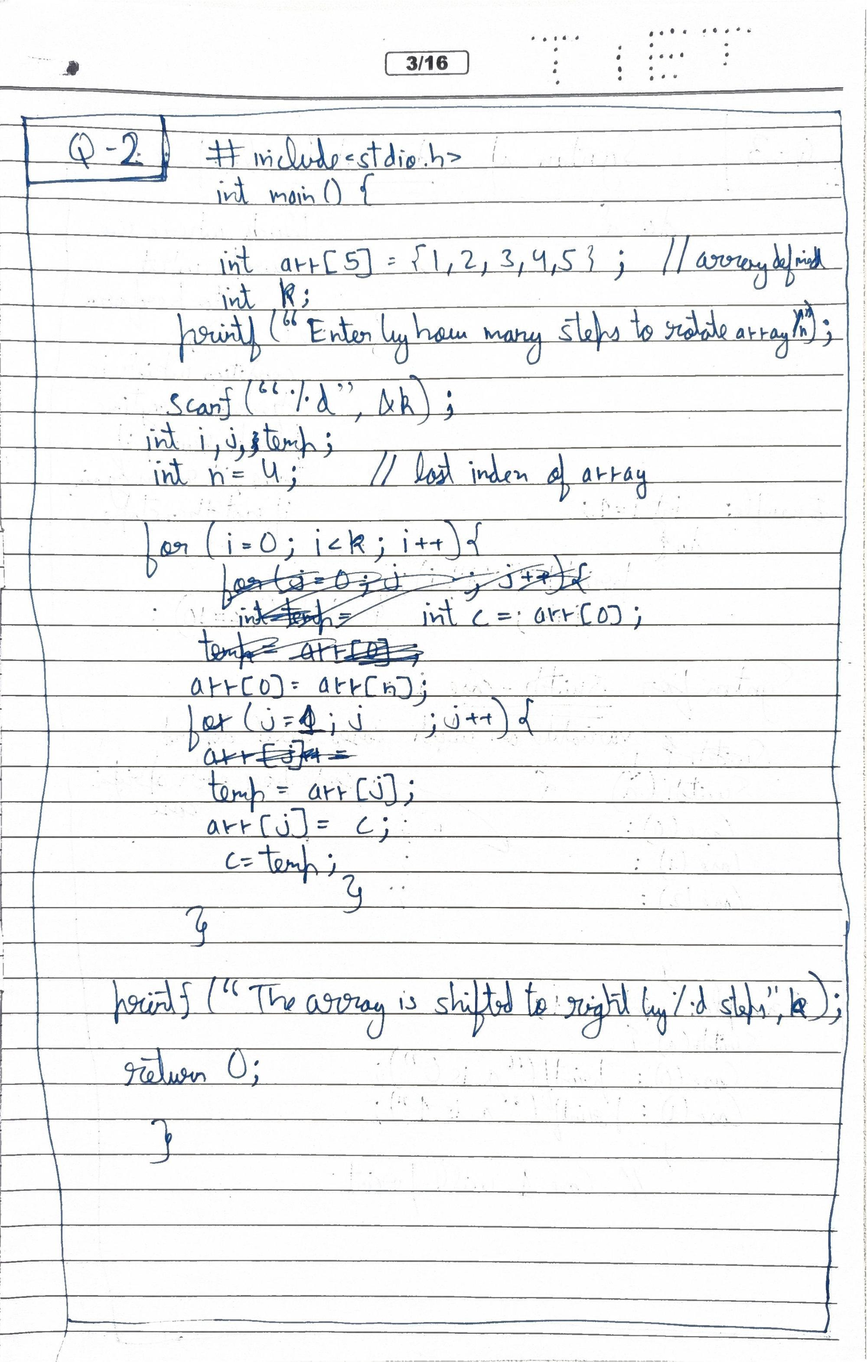cuttings: (184, 548, 646, 673), (200, 737, 361, 774), (247, 430, 262, 460)
